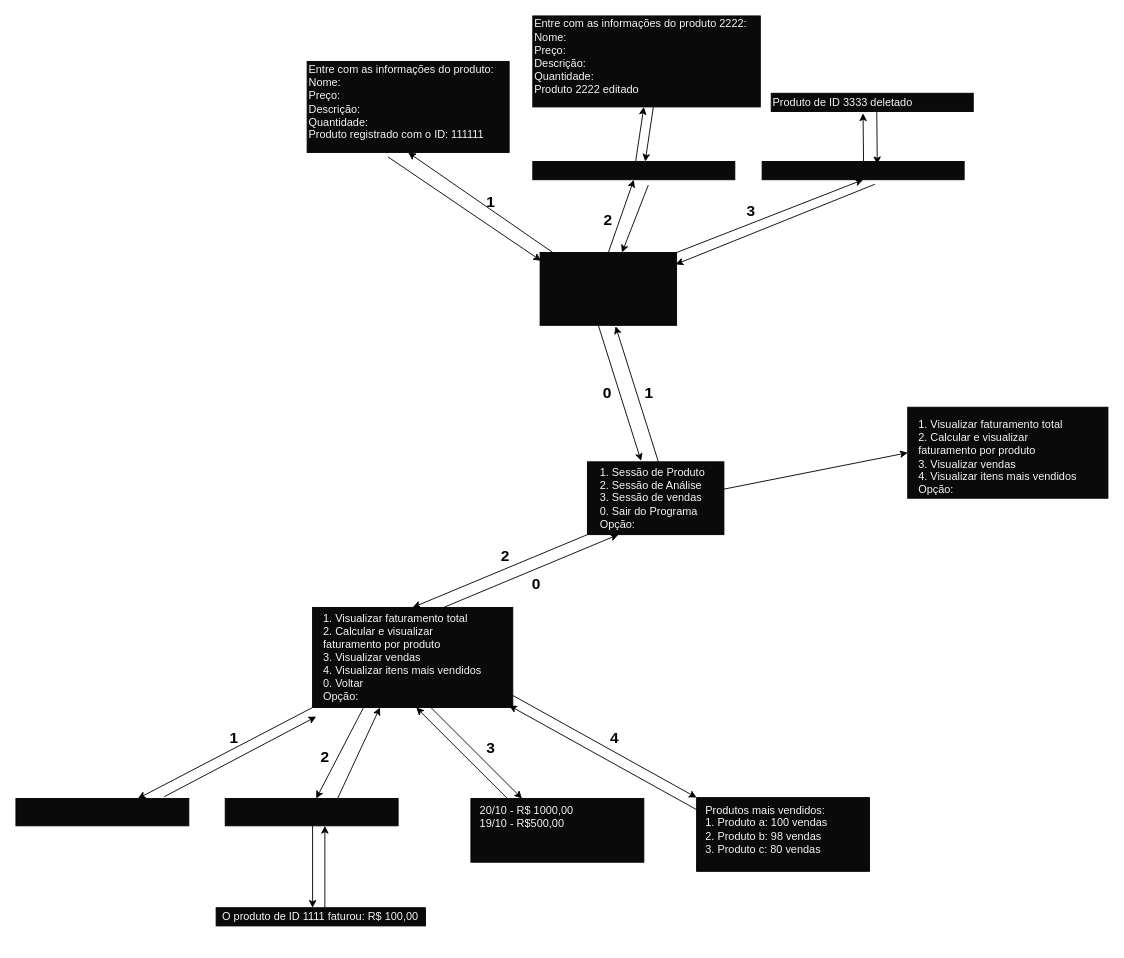
The diagram is 1124 pixels wide and 958 high, and some of its shapes have lost their labels. Each missing label, with the box of its shape:
1. Registrar Produto 2. Editar Produto 3. Deletar Produto 0. Voltar Opção:: (539, 252, 677, 325)
Entre com o ID do produto: 1111: (224, 798, 398, 826)
Entre com o ID do produto: 2222: (532, 161, 735, 180)
Entre com o ID do produto: 3333: (761, 161, 964, 180)
Faturamento total: R$ 1000,00: (15, 798, 189, 826)
